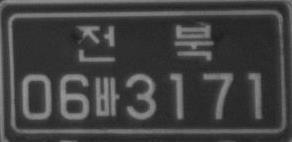0: (22, 72, 53, 120)
1: (164, 72, 195, 120), (242, 72, 271, 120)
3: (125, 71, 156, 121)
6: (59, 73, 90, 119)
7: (202, 71, 234, 120)
바: (94, 75, 120, 117)
전북_D: (74, 24, 215, 61)
